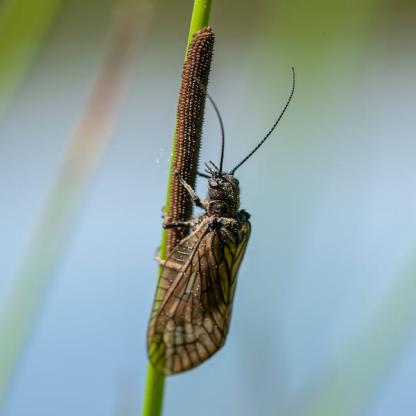sawfly: (141, 67, 300, 376)
